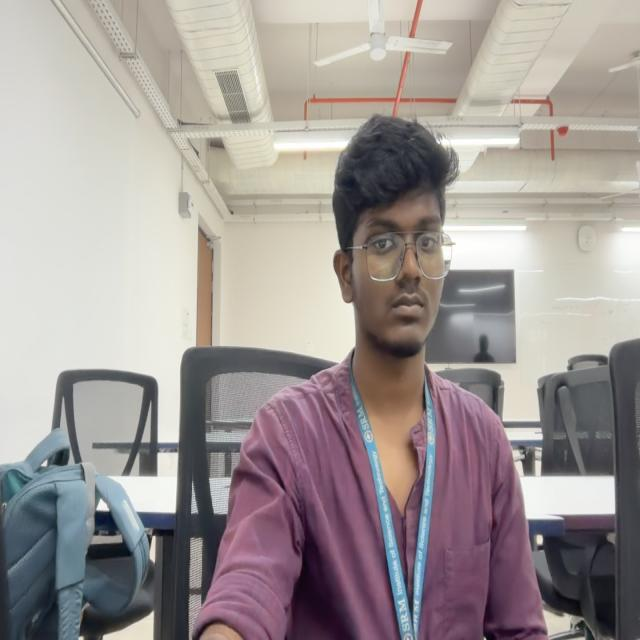ravindra: (333, 117, 456, 361)
